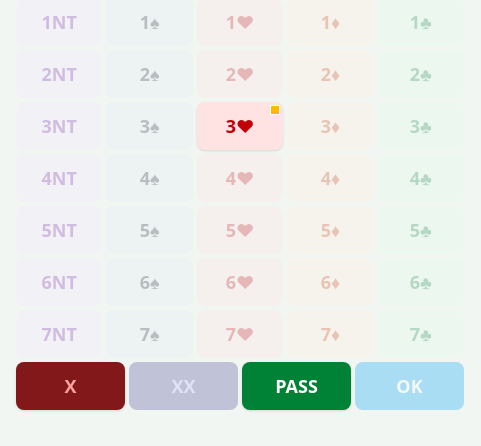
Test: BiddingBox – resonemangslagrets bud (ägarbeslut 2026-09-30, felrapport #93) › ett resonemangsbud märks med gul fyrkant i stället för grön prick, och etiketten RESONEMANG
Expected: the element titled "Resonemangslagrets bud" is shown, x1=271 y1=106 x2=279 y2=114
Step 1. Click the button "3♥" → x=240, y=126, box x1=197 y1=102 x2=283 y2=150
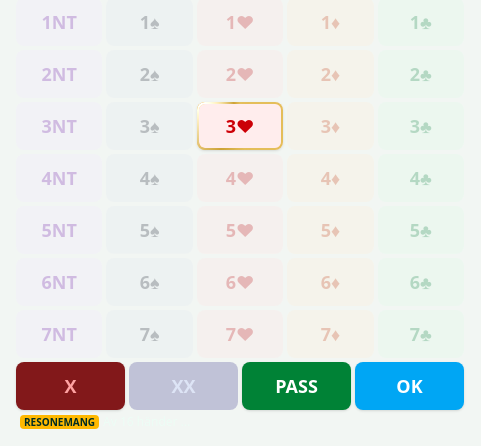
Expected: the text "RESONEMANG" is shown, x1=20 y1=415 x2=99 y2=429
